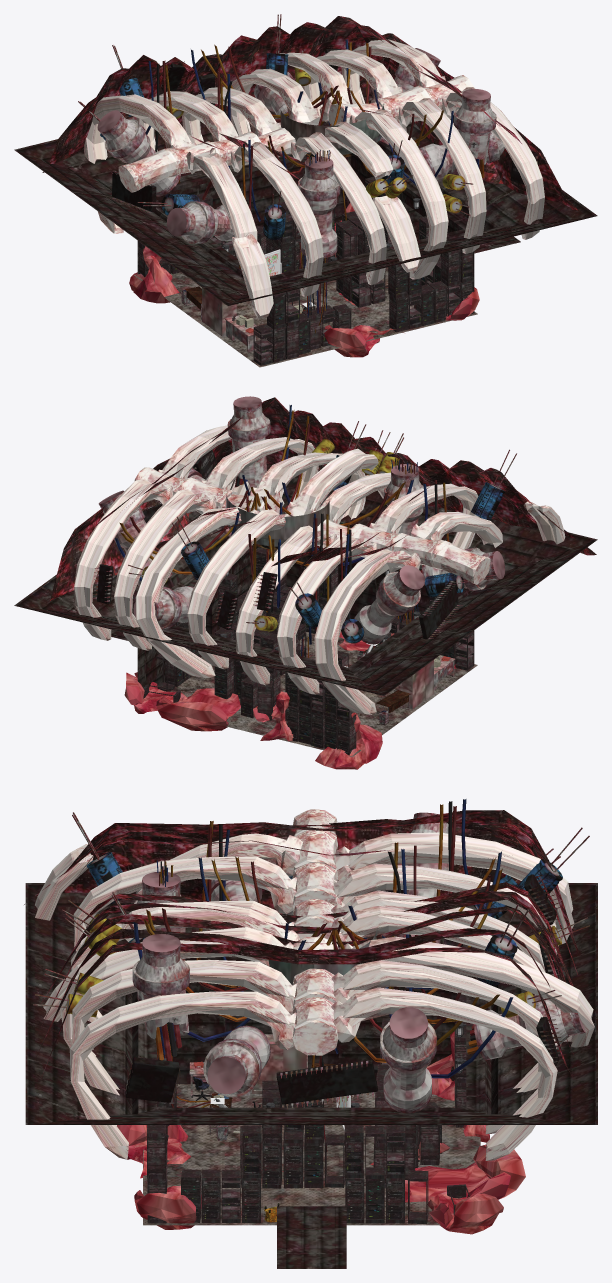
File: leviathan.glb
3 views of the same model, one above another, from view 1: azimuth 30°, elevation 25°; view 2: azimuth 150°, elevation 25°; view 3: azimuth 270°, elevation 25° (orthographic). The views are drawn at different scales.
Visible parts, largest first — view 1: MegalodonControlRoom_Ceil_02_72, MegalodonControlRoom_Ceil_71, MegalodonControlRoom_Floor_73, FishBoneRib_01B_02_225, MegalodonControlRoom_Wall_74, FishBoneRib_01B_01_219, FishBoneRib_01B_01_210, FishBoneRib_01B_01_216, FishBoneRib_01A_221, FishBoneRib_01B_01_213, FishBoneRib_02A_222, FishBoneRib_01B_206 (+54 smaller); view 2: MegalodonControlRoom_Ceil_02_72, MegalodonControlRoom_Ceil_71, FishBoneRib_01A_221, FishBoneRib_01B_03_226, FishBoneRib_01B_209, FishBoneRib_01B_212, FishBoneRib_01B_206, MegalodonControlRoom_Wall_74, MegalodonControlRoom_Floor_73, FishBoneRib_01B_218, FishBoneRib_01B_215, CystBlob_06a_02_109 (+45 smaller); view 3: MegalodonControlRoom_Ceil_02_72, MegalodonControlRoom_Ceil_71, MegalodonControlRoom_Floor_73, MegalodonControlRoom_Wall_74, FishBoneRib_01B_01_213, FishBoneRib_01B_212, FishBoneRib_01A_221, FishBoneRib_01B_01_210, FishBoneRib_01B_209, FishBoneRib_01B_03_226, FishBoneRib_01B_01_219, FishBoneRib_01B_218 (+63 smaller).
Part boxes in pixels (x1,y1,x2,y2): MegalodonControlRoom_Ceil_02_72: (14,86,597,305); MegalodonControlRoom_Ceil_71: (42,16,580,318); MegalodonControlRoom_Floor_73: (134,255,477,367); FishBoneRib_01B_02_225: (349,109,448,279); MegalodonControlRoom_Wall_74: (137,155,520,313); FishBoneRib_01B_01_219: (230,142,323,296); FishBoneRib_01B_01_210: (398,98,486,253); FishBoneRib_01B_01_216: (290,132,386,285); FishBoneRib_01A_221: (84,94,196,233); FishBoneRib_01B_01_213: (442,87,544,239); FishBoneRib_02A_222: (186,147,257,240); FishBoneRib_01B_206: (230,68,319,135); MegalodonControlRoom_Ceil_02_72: (14,464,597,695); MegalodonControlRoom_Ceil_71: (50,397,596,600); FishBoneRib_01A_221: (314,549,420,714); FishBoneRib_01B_03_226: (135,507,259,678); FishBoneRib_01B_209: (114,489,216,650); FishBoneRib_01B_212: (74,478,172,640); FishBoneRib_01B_206: (187,509,290,669); MegalodonControlRoom_Wall_74: (111,546,474,687); MegalodonControlRoom_Floor_73: (169,632,477,756); FishBoneRib_01B_218: (277,535,376,694); FishBoneRib_01B_215: (235,525,336,685); CystBlob_06a_02_109: (156,688,240,731); MegalodonControlRoom_Ceil_02_72: (25,883,597,1124); MegalodonControlRoom_Ceil_71: (24,810,579,1083); MegalodonControlRoom_Floor_73: (143,1084,480,1225); MegalodonControlRoom_Wall_74: (172,982,462,1268); FishBoneRib_01B_01_213: (69,991,296,1159); FishBoneRib_01B_212: (331,987,557,1160); FishBoneRib_01A_221: (335,832,574,943); FishBoneRib_01B_01_210: (71,959,297,1095); FishBoneRib_01B_209: (331,960,557,1134); FishBoneRib_01B_03_226: (339,936,594,1047); FishBoneRib_01B_01_219: (73,856,297,951); FishBoneRib_01B_218: (332,863,560,954).
Bounding box in the file's own units: 34.47 × 19.5 × 33.6.
26 materials, 23 textured.
